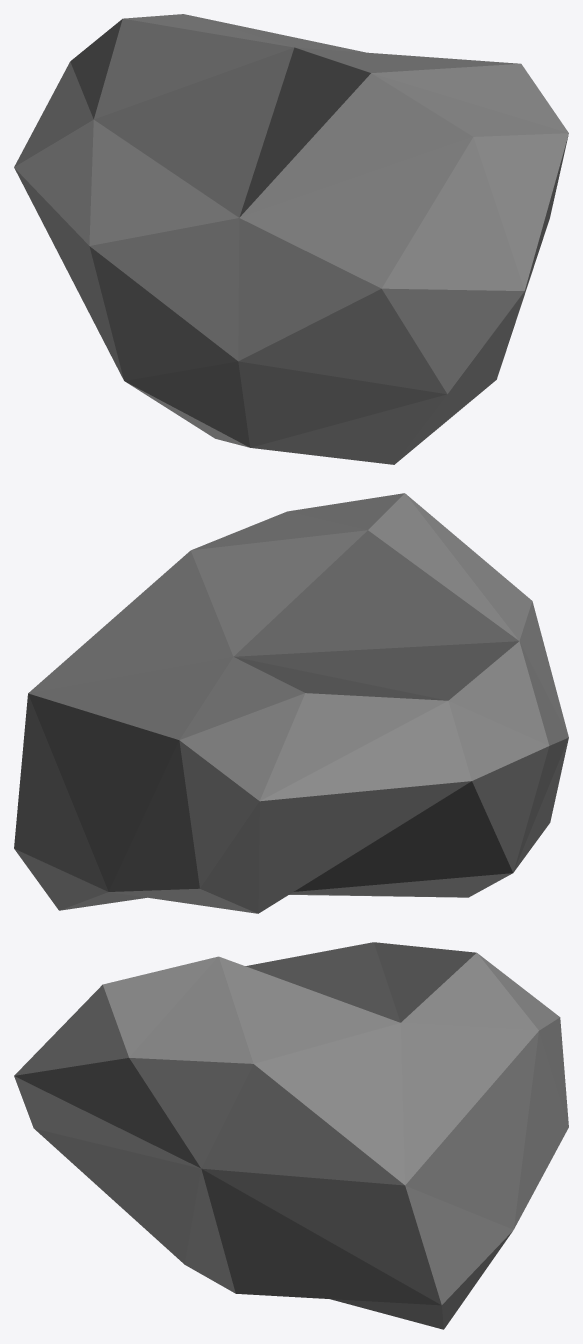
File: Rock2.glb
The picture shows the model from 3 angles, top to bottom: view 1: azimuth 30°, elevation 25°; view 2: azimuth 150°, elevation 25°; view 3: azimuth 270°, elevation 25°; orthographic projection. The views are drawn at different scales.
Parts seen in each view (by area): view 1: Icosphere; view 2: Icosphere; view 3: Icosphere.
Part boxes in pixels (<box>): Icosphere: <box>14,14,568,464</box>; Icosphere: <box>14,493,568,913</box>; Icosphere: <box>14,942,568,1329</box>.
Bounding box in the file's own units: 6.08 × 4.43 × 7.24.
Materials: 1 (1 with a texture image).
